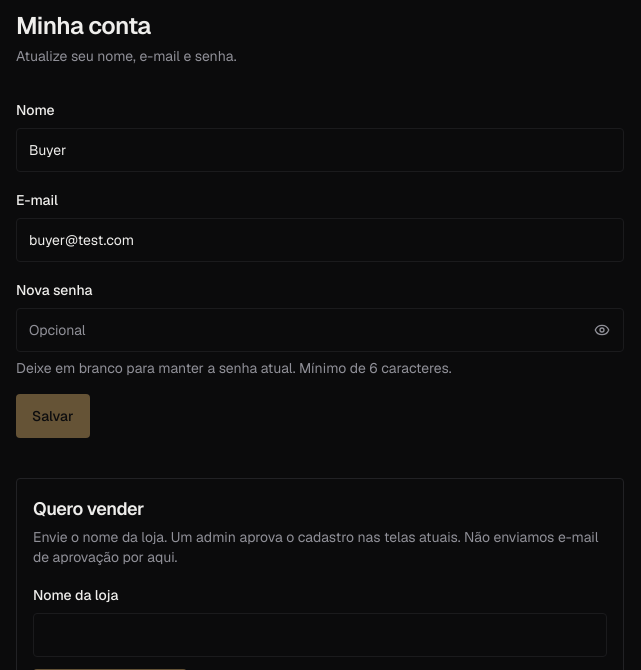
AccountPage › disables submit until the profile changes
The width and height of the screenshot is (641, 670).
Expected: the button "Salvar" is disabled, [16,394,90,438]
Replace the text in the field labelled "Nome" with "Novo Nome". click: (320, 150)
box: [16,128,624,172]
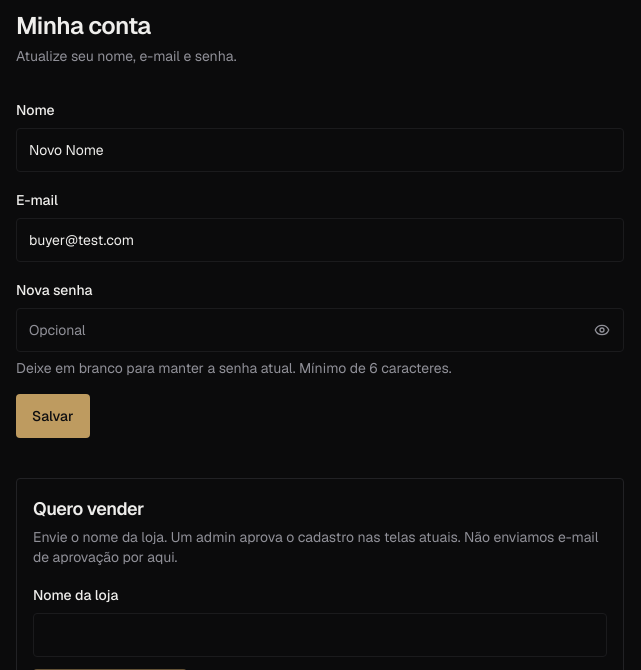
Result: the button "Salvar" is enabled at [16,394,90,438]
